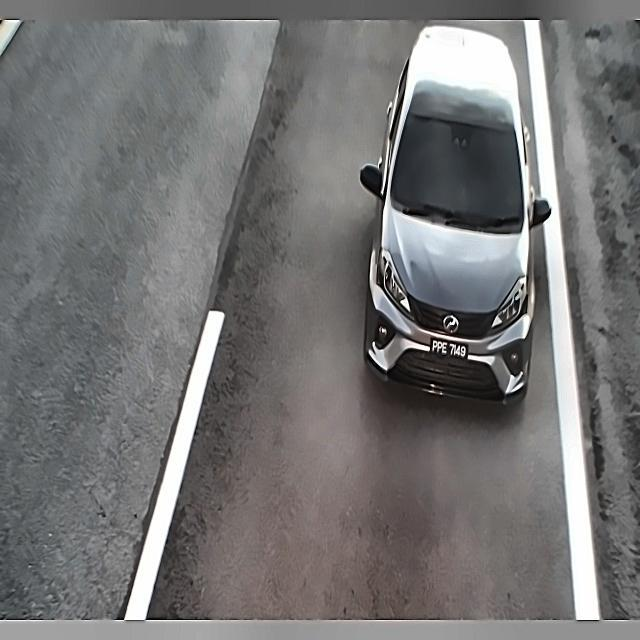car: (427, 329, 473, 367)
